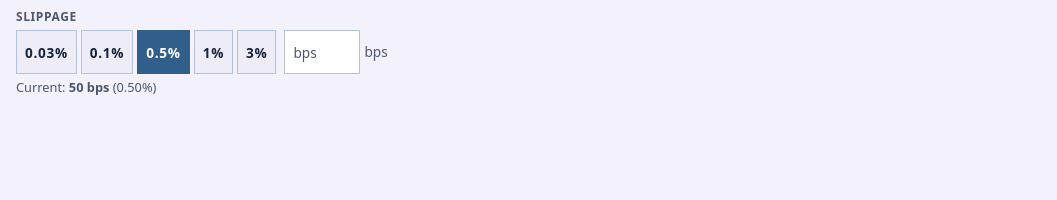
Test: SlippagePresets › shows confirmation for values above 1000 bps (10%)
Type "1500" into the number field with placeholder "bps".
click(322, 52); type("1500")  # box 284,30 -> 360,74
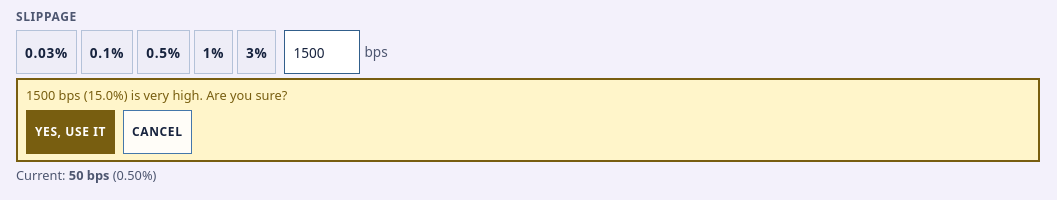
Expected: the text "1500 bps (15.0%) is very high. Are you sure?" is shown, 26,86 -> 287,104
